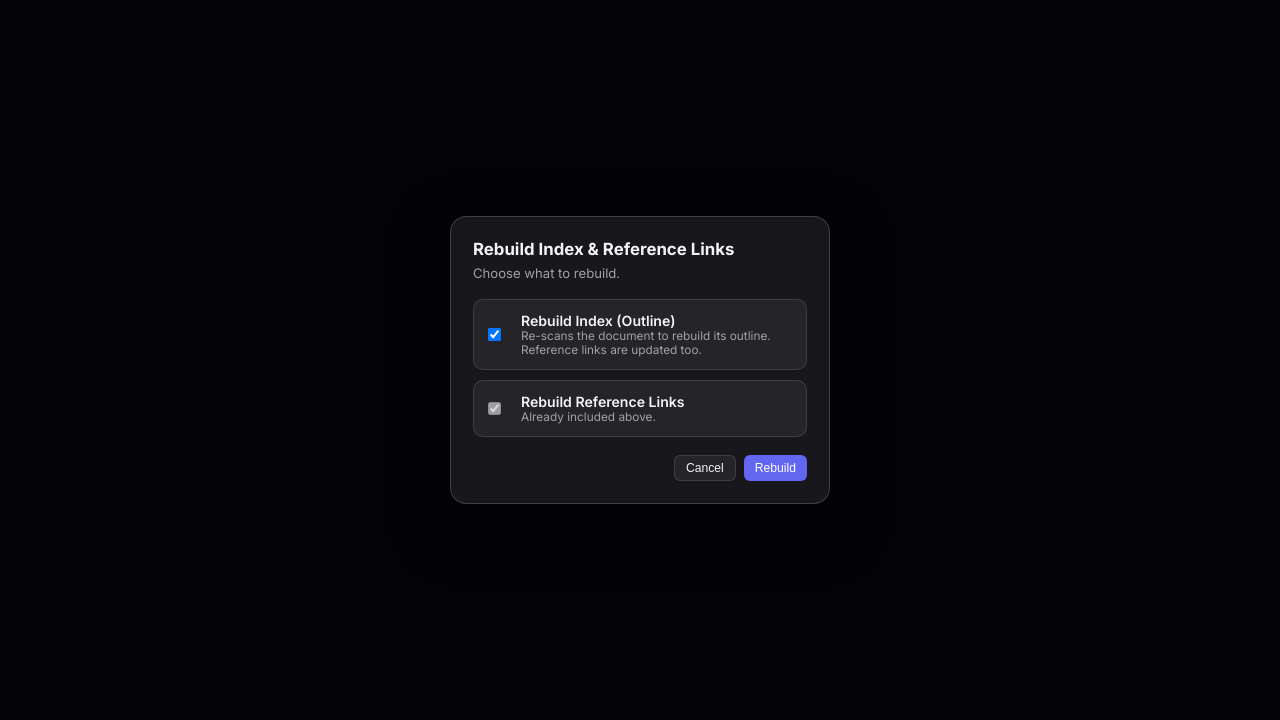
RebuildIndexModal › unchecking Index re-enables the Reference Links checkbox, which stays checked
The image size is (1280, 720).
Click the checkbox with test id "rebuild-checkbox-index": (494, 334) left=488, top=328, right=501, bottom=341
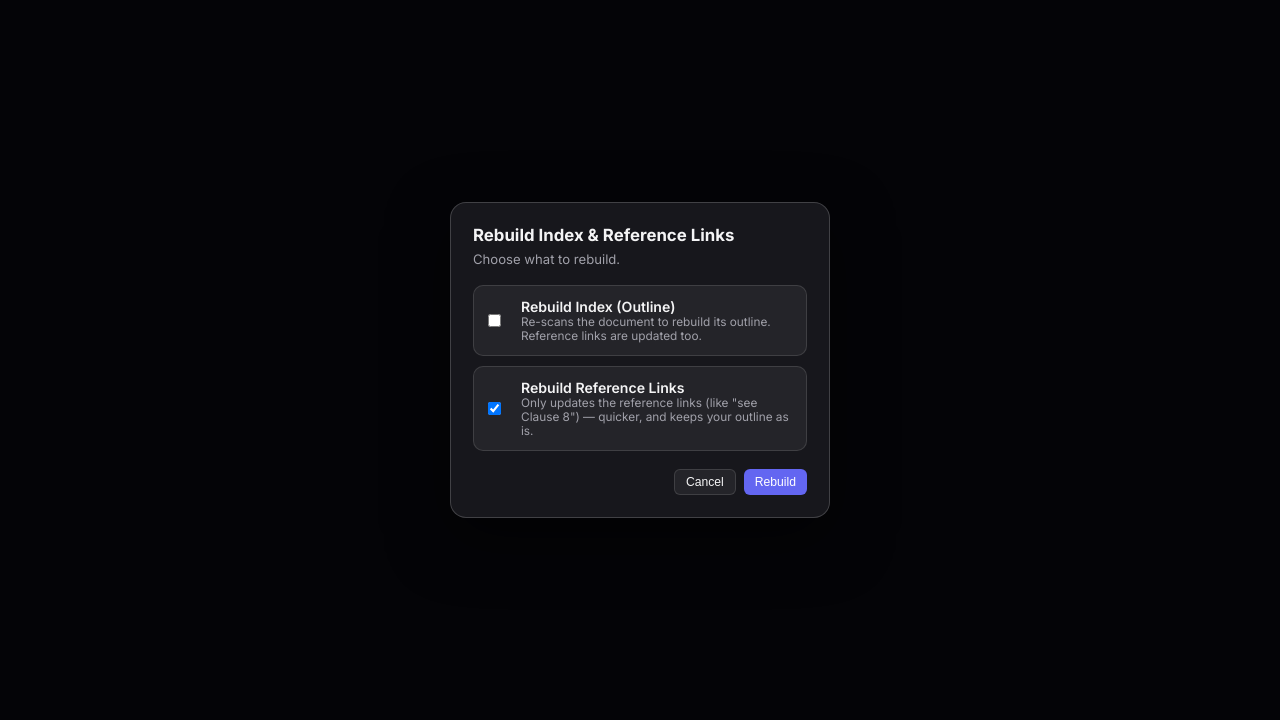
Expected: the checkbox with test id "rebuild-checkbox-links" is checked, left=488, top=402, right=501, bottom=415
Now the checkbox with test id "rebuild-checkbox-index" is not checked, box left=488, top=314, right=501, bottom=327
Now the checkbox with test id "rebuild-checkbox-links" is enabled, box left=488, top=402, right=501, bottom=415
